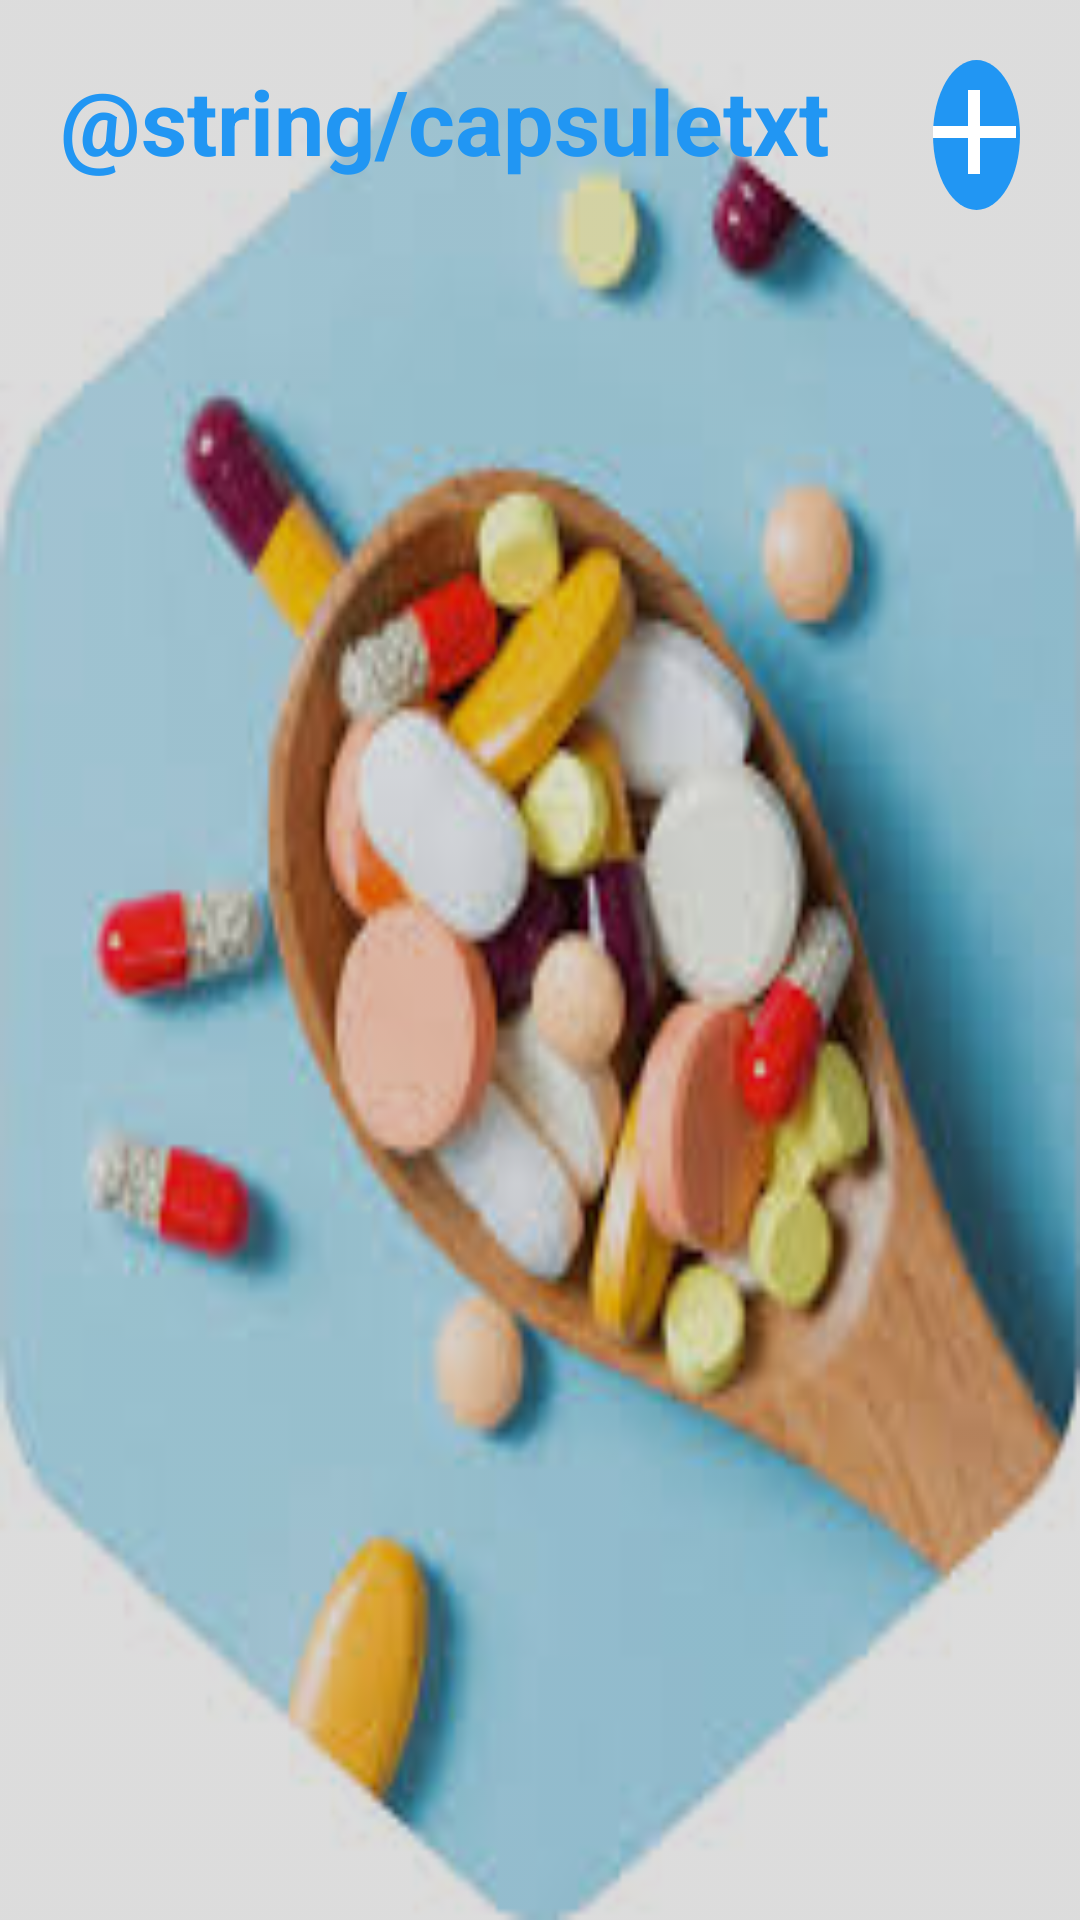

Icon bounding boxes for this 1080*1920 phone screenshot, format (x1, y1, x2, y2):
add: (933, 60, 1020, 210)
